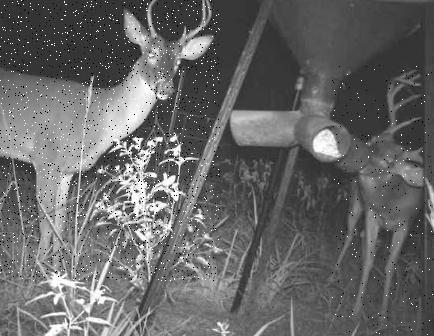Deer: (0, 0, 220, 281), (332, 65, 434, 336)
